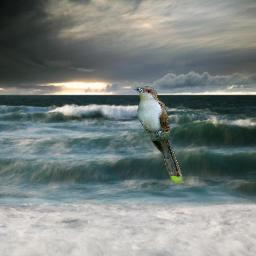Cuckoo: (134, 86, 184, 183)
